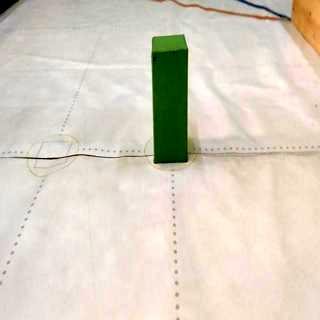greenbox: (151, 35, 189, 164)
